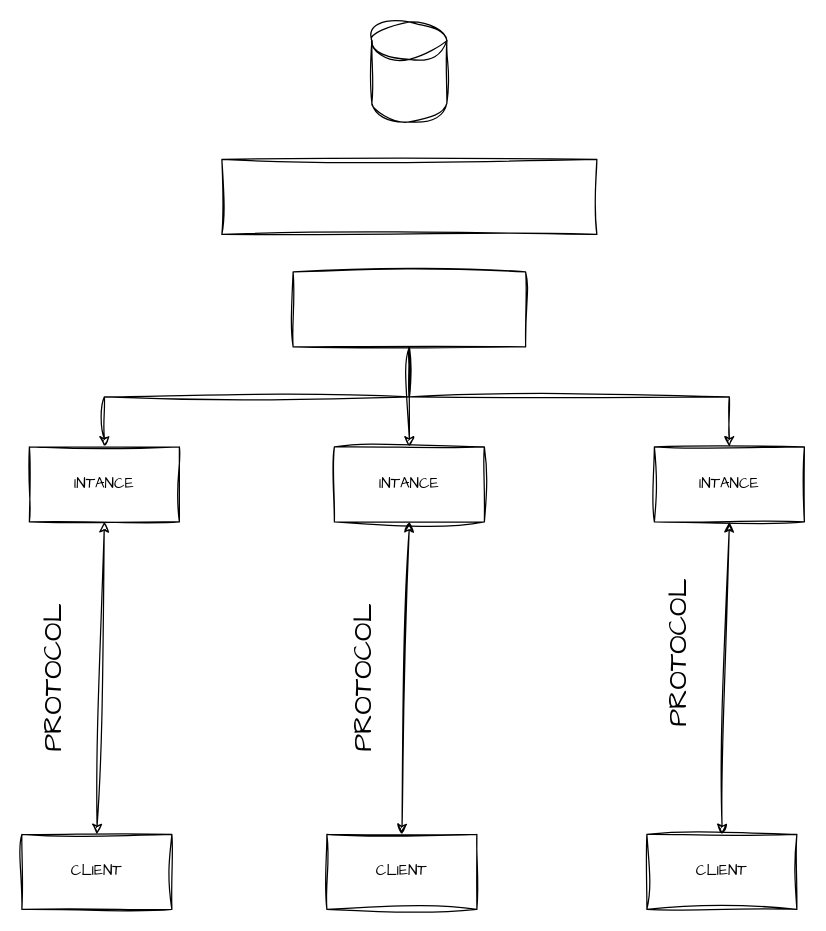
Some shapes in this 826 by 931 pixel diagram are drawn without their labels. Each missing label, with the centre of its shape:
SERVER: pixel 409 196
SERVICE: pixel 409 309
